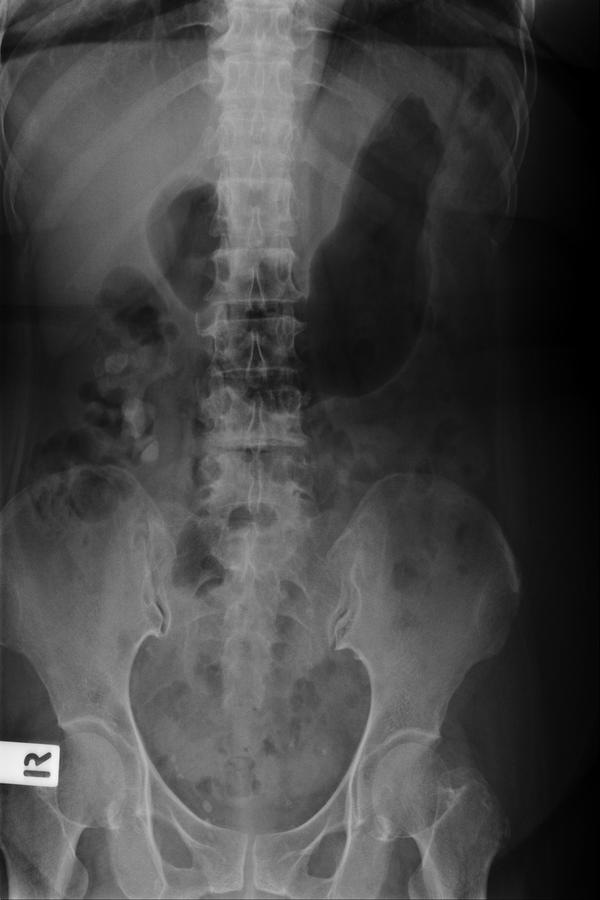not lumbar scoliosis: (189, 203, 321, 594)
